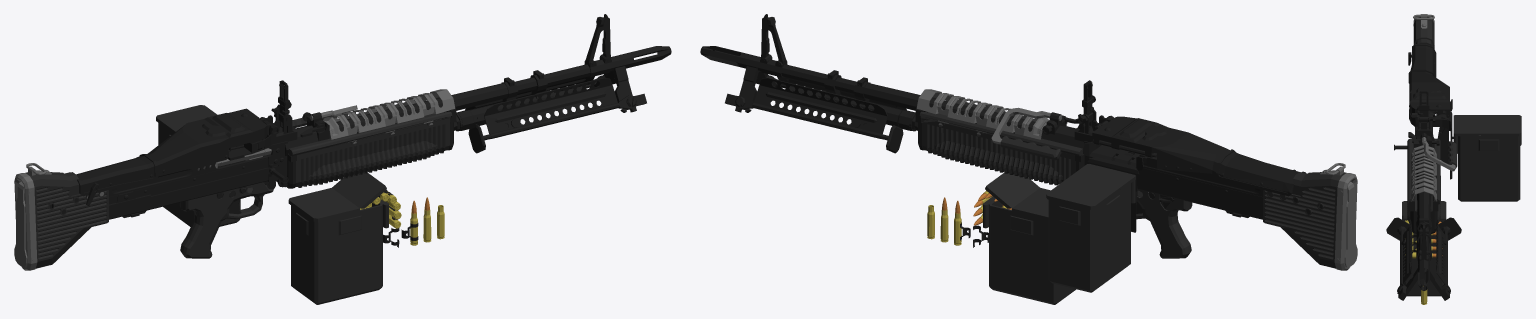
Rendered from m60_machine.glb.
3 renders of one model, left to right at view 1: azimuth 30°, elevation 25°; view 2: azimuth 150°, elevation 25°; view 3: azimuth 270°, elevation 25°, orthographic. The views are drawn at different scales.
Size of the model in its own units: 11.07 by 3.58 by 2.54.
